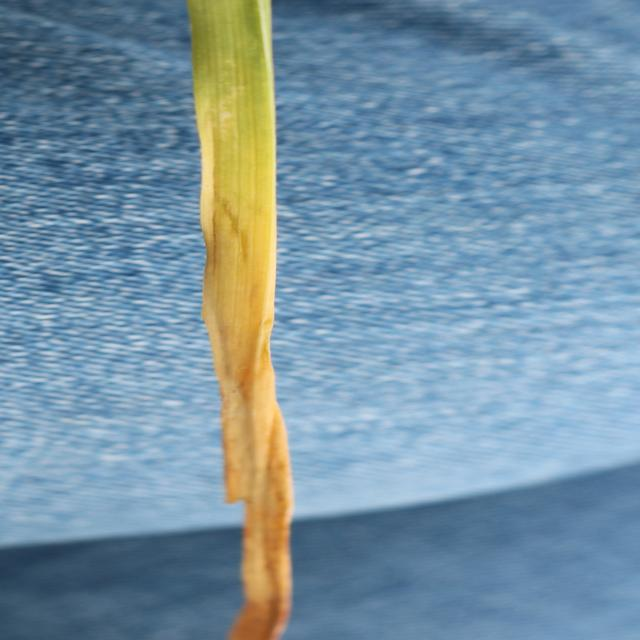Septoria: (206, 210, 289, 500), (241, 504, 284, 636)
